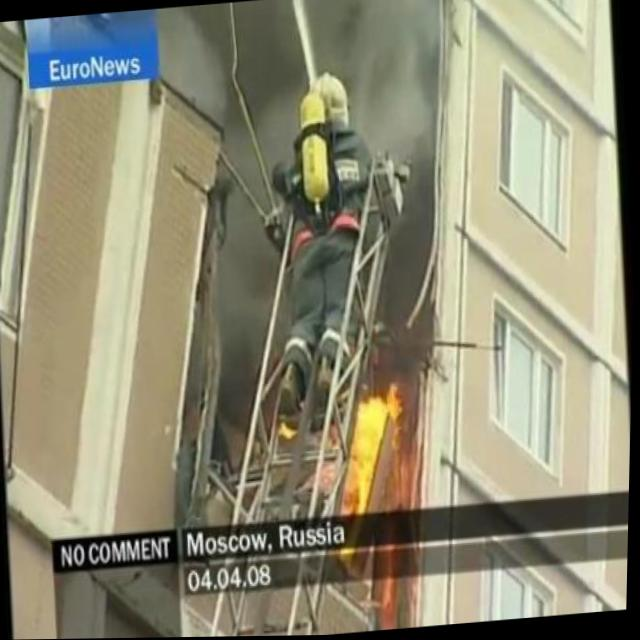fire: (336, 375, 414, 515), (277, 417, 301, 446)
